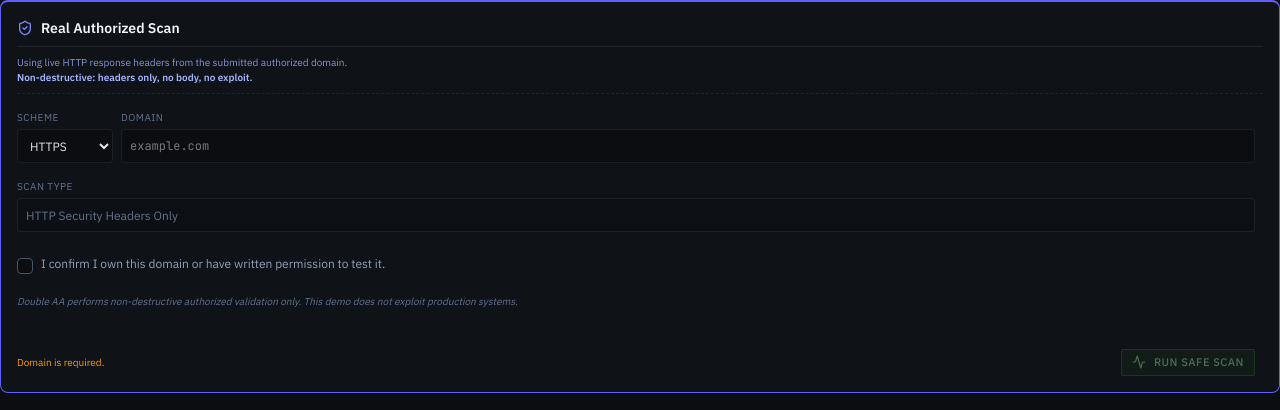
Test: AuthorizedDomainScanPanel – checkbox visibility › CheckCircle2 icon has peer-checked:opacity-100 class after checking the checkbox
This screenshot has width=1280, height=410.
Click the checkbox labelled "I confirm I own this domain": (201, 265) [17, 256, 385, 274]
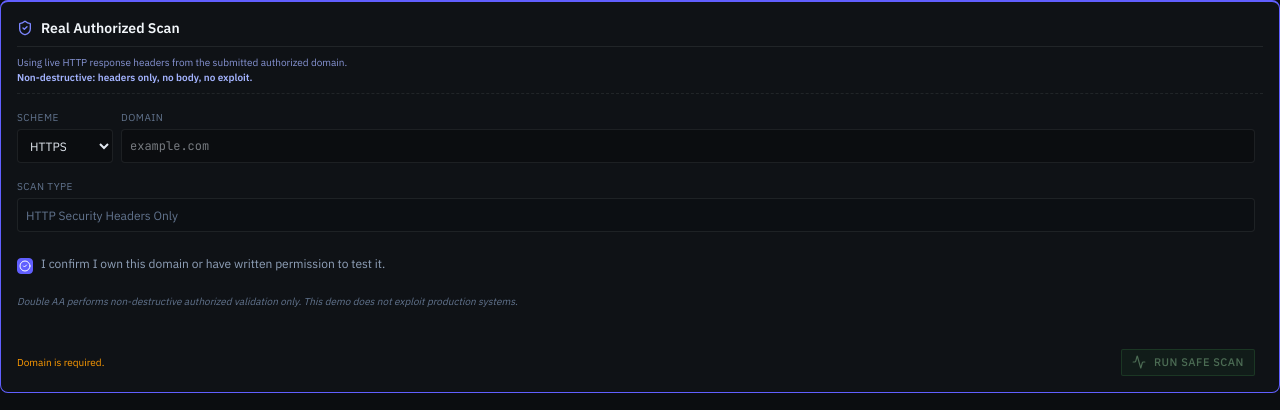
expect the checkbox labelled "I confirm I own this domain" is checked: met, box [17, 256, 385, 274]
expect the 2nd icon is shown: met, box [19, 260, 31, 272]
